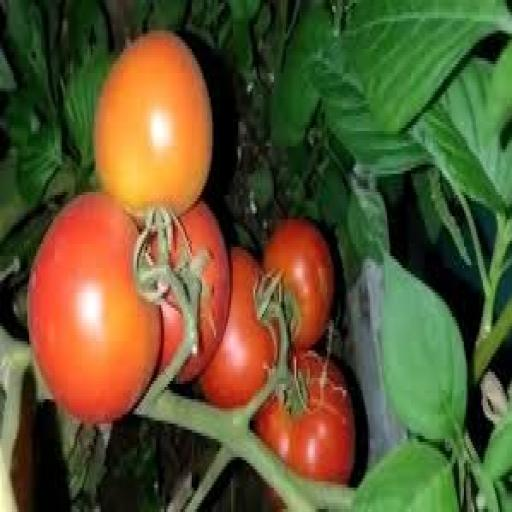tomato: (28, 192, 160, 423), (95, 31, 212, 213), (254, 351, 354, 484), (201, 247, 277, 408), (177, 202, 231, 383), (264, 220, 333, 350)
